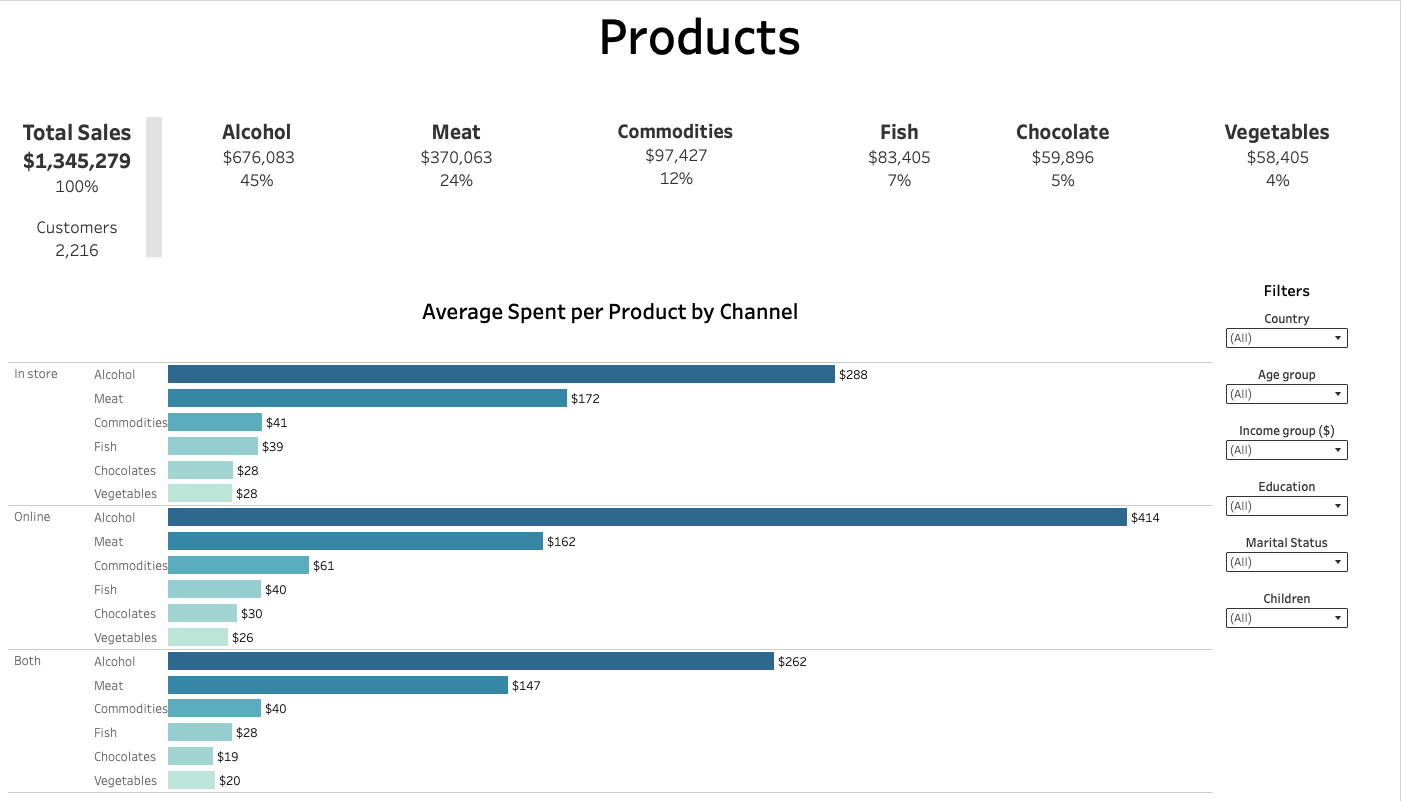

The dashboard page shown, as its layout file describes it:
{"tool":"tableau","page":{"name":"Product","canvas":[1400,800],"ordinal":2},"visuals":[{"type":"text","box":[0,0,1400,66]},{"type":"blank","box":[0,66,1400,42]},{"type":"worksheet","title":"card  total sales","mark":"Automatic","box":[4,112,199,150]},{"type":"worksheet","title":"card  alco","mark":"Automatic","box":[203,112,199,150]},{"type":"worksheet","title":"card meat","mark":"Automatic","box":[402,112,199,150]},{"type":"worksheet","title":"card commodities","mark":"Automatic","box":[601,112,199,150]},{"type":"worksheet","title":"card fish","mark":"Automatic","box":[800,112,199,150]},{"type":"worksheet","title":"card  chocolate","mark":"Automatic","box":[999,112,199,150]},{"type":"worksheet","title":"card vegies","mark":"Automatic","box":[1198,112,198,150]},{"type":"blank","box":[4,270,1213,10]},{"type":"text","box":[1221,274,132,29]},{"type":"text","box":[4,280,1213,57]},{"type":"filter","title":"card  alco","param":"[federated.0i2m06z1eelqc212w9e2c13m77is].[none:country:nk]","box":[1221,303,132,52]},{"type":"worksheet","title":"Product_avg_online_instore","mark":"Automatic","rows":["Calculation_4279052988508106753"],"box":[4,337,1213,458.9]},{"type":"filter","title":"card  alco","param":"[federated.0i2m06z1eelqc212w9e2c13m77is].[Clean Age (group)]","box":[1221,355,132,52]},{"type":"filter","title":"card  alco","param":"[federated.0i2m06z1eelqc212w9e2c13m77is].[Income($) (group)]","box":[1221,407,132,52]},{"type":"filter","title":"card  alco","param":"[federated.0i2m06z1eelqc212w9e2c13m77is].[none:education:nk]","box":[1221,459,132,52]},{"type":"filter","title":"card  alco","param":"[federated.0i2m06z1eelqc212w9e2c13m77is].[none:marital_status:nk]","box":[1221,511,132,52]},{"type":"filter","title":"card  alco","param":"[federated.0i2m06z1eelqc212w9e2c13m77is].[none:Calculation_3009882315163762690:n","box":[1221,563,132,52]}]}

Visuals, with their boxes in screenshot pixels (x1, y1, x2, y2), scaled from the page's 1400x800 canvas onto the 1401x801 screenshot:
text: l=0, t=0, r=1400, b=66
blank: l=0, t=66, r=1400, b=108
"card  total sales" worksheet: l=4, t=112, r=203, b=262
"card  alco" worksheet: l=203, t=112, r=402, b=262
"card meat" worksheet: l=402, t=112, r=601, b=262
"card commodities" worksheet: l=601, t=112, r=801, b=262
"card fish" worksheet: l=801, t=112, r=1000, b=262
"card  chocolate" worksheet: l=1000, t=112, r=1199, b=262
"card vegies" worksheet: l=1199, t=112, r=1397, b=262
blank: l=4, t=270, r=1218, b=280
text: l=1222, t=274, r=1354, b=303
text: l=4, t=280, r=1218, b=337
"card  alco" filter: l=1222, t=303, r=1354, b=355
"Product_avg_online_instore" worksheet: l=4, t=337, r=1218, b=797
"card  alco" filter: l=1222, t=355, r=1354, b=408
"card  alco" filter: l=1222, t=408, r=1354, b=460
"card  alco" filter: l=1222, t=460, r=1354, b=512
"card  alco" filter: l=1222, t=512, r=1354, b=564
"card  alco" filter: l=1222, t=564, r=1354, b=616
